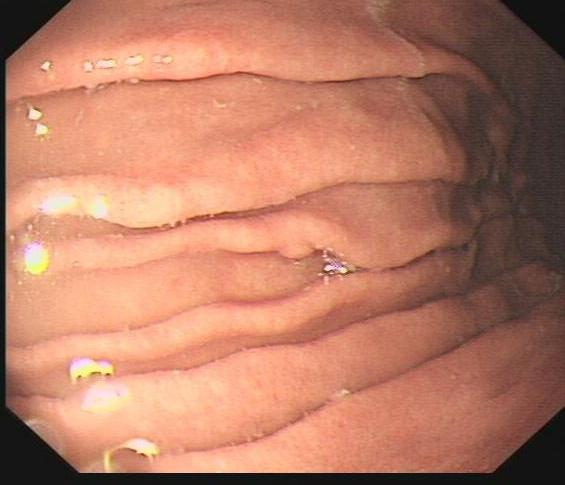Polyp: (150, 29, 229, 79)
